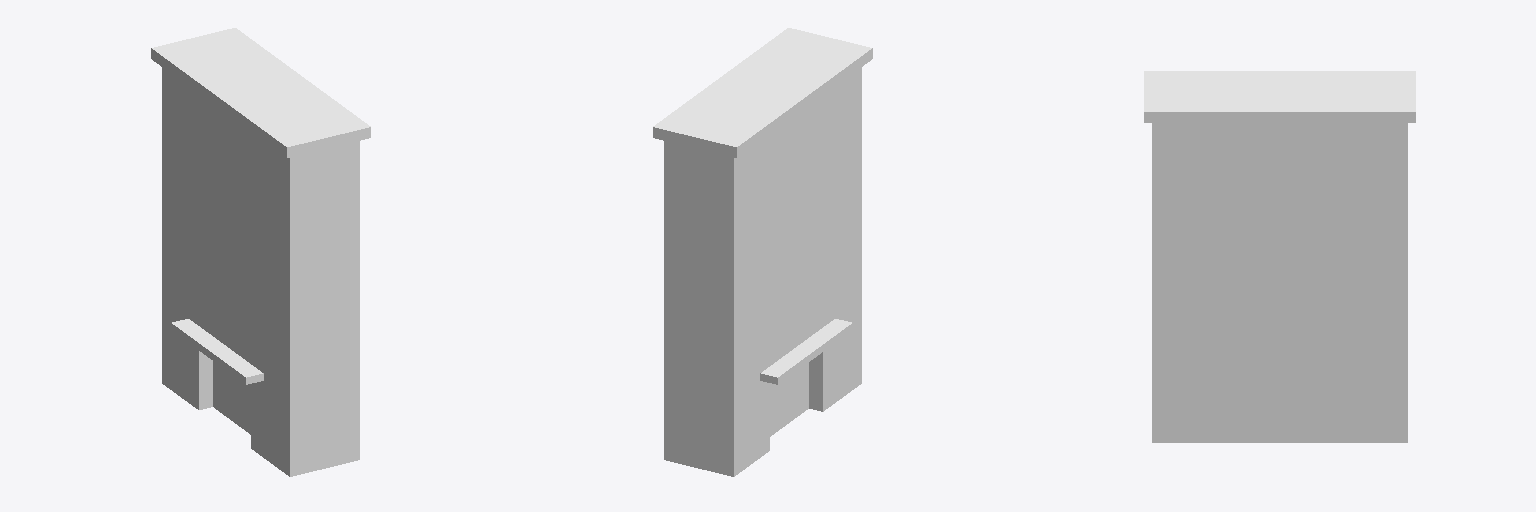
The model's file is build_3.obj.
The picture shows the model from 3 angles: view 1: azimuth 30°, elevation 25°; view 2: azimuth 150°, elevation 25°; view 3: azimuth 270°, elevation 25°; orthographic projection.
Size of the model in its own units: 27 by 91 by 67.